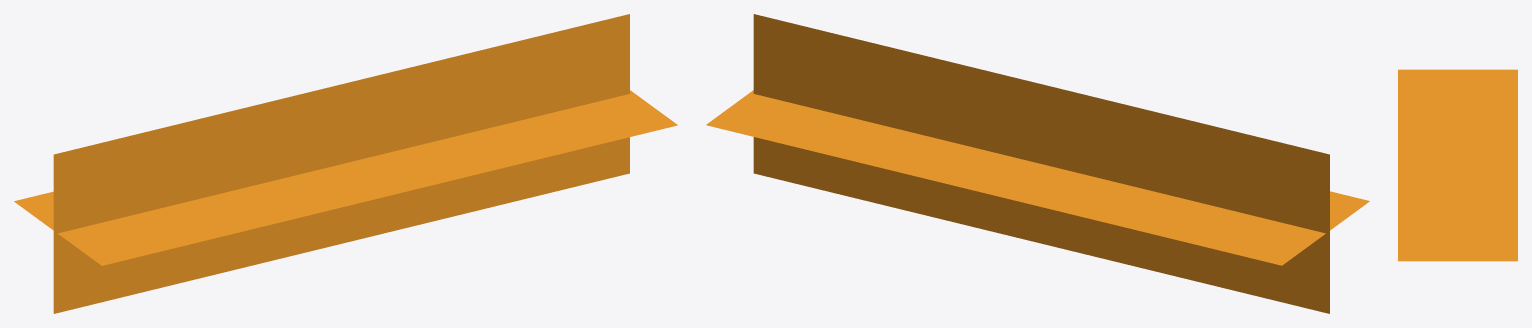
The model's file is SM_LightCone.FBX.
3 views of the same model, side by side, from view 1: azimuth 30°, elevation 25°; view 2: azimuth 150°, elevation 25°; view 3: azimuth 270°, elevation 25° (orthographic). The views are drawn at different scales.
Parts seen in each view (by area): view 1: SM_LightCone; view 2: SM_LightCone; view 3: SM_LightCone.
Boxes of the visible parts, bbox=[...] form: SM_LightCone: bbox=[14, 14, 677, 313]; SM_LightCone: bbox=[706, 14, 1369, 313]; SM_LightCone: bbox=[1398, 69, 1517, 261].
Size of the model in its own units: 2003 by 526 by 526.
